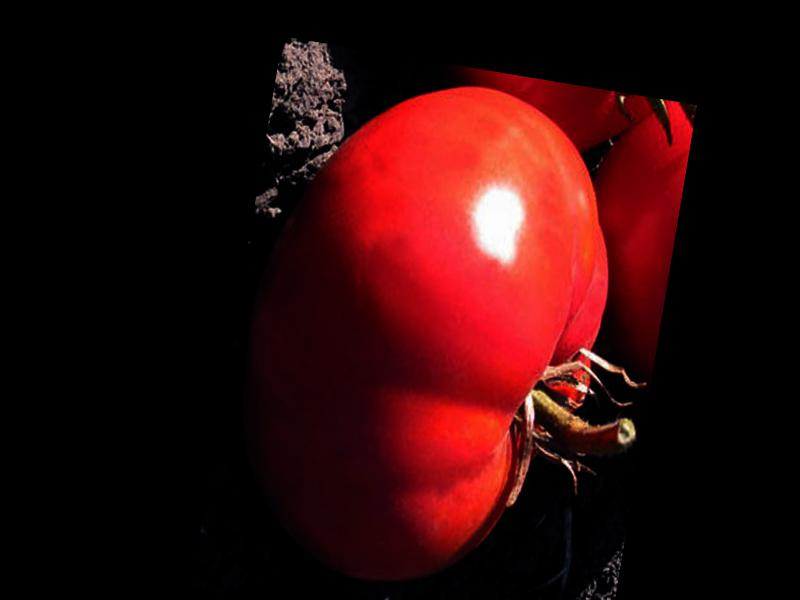Tomato: (212, 56, 635, 600)
